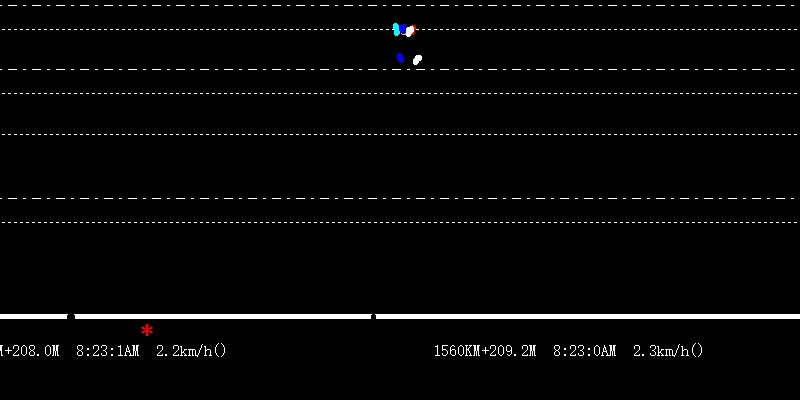face_2: (392, 19, 418, 41)
star: (137, 321, 156, 338)
